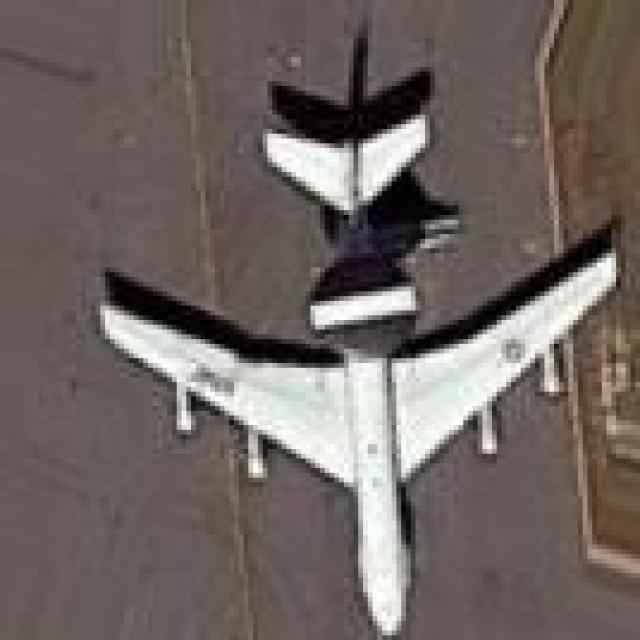E-3_TopDown: (71, 28, 625, 640)
